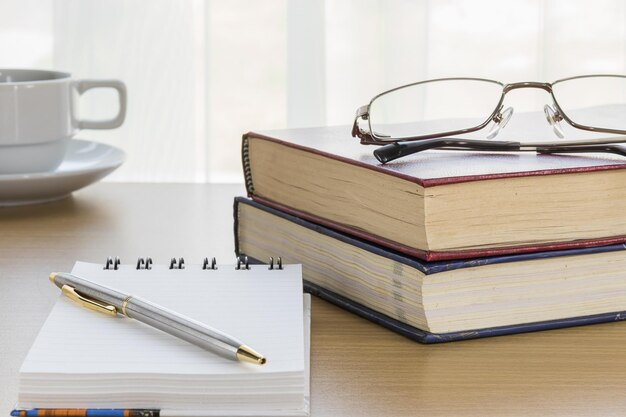not a gesture sign: (49, 273, 265, 364)
